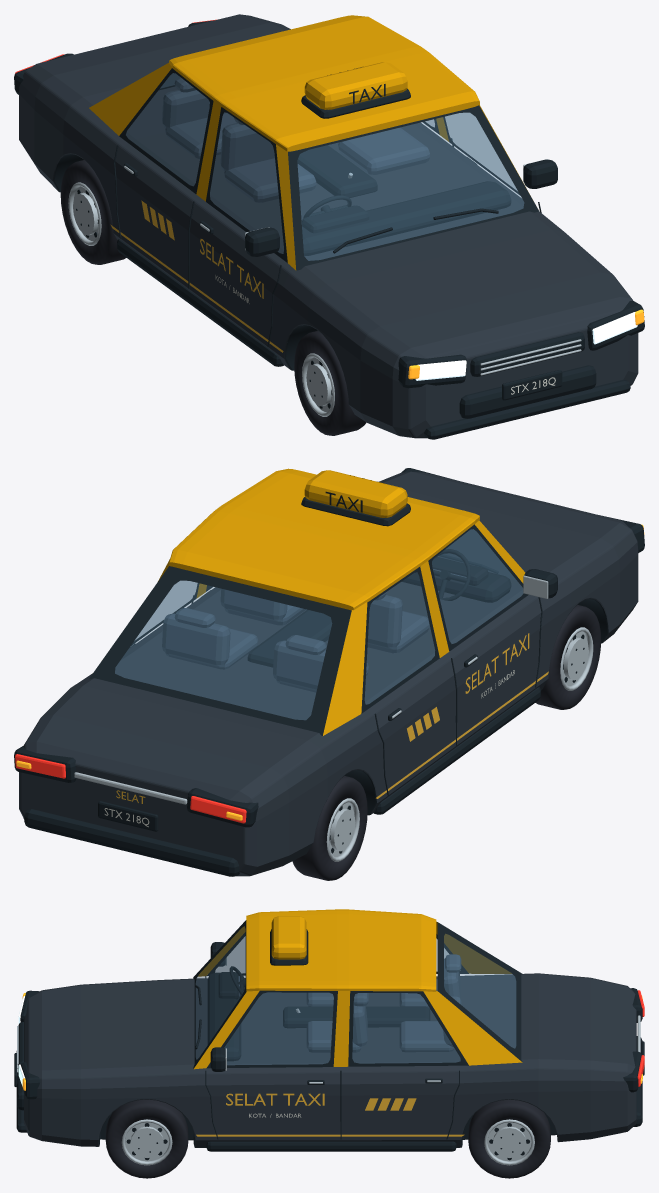
3 renders of one model, top to bottom at view 1: azimuth 30°, elevation 25°; view 2: azimuth 150°, elevation 25°; view 3: azimuth 270°, elevation 25°, orthographic. The views are drawn at different scales.
Parts seen in each view (by area): view 1: Selat Yellow-Top Taxi; view 2: Selat Yellow-Top Taxi; view 3: Selat Yellow-Top Taxi.
Boxes of the visible parts, left/top/right/bottom form: Selat Yellow-Top Taxi: left=14, top=14, right=644, bottom=439; Selat Yellow-Top Taxi: left=14, top=468, right=644, bottom=880; Selat Yellow-Top Taxi: left=14, top=909, right=644, bottom=1178.
Size of the model in its own units: 2.06 by 1.66 by 4.71.
